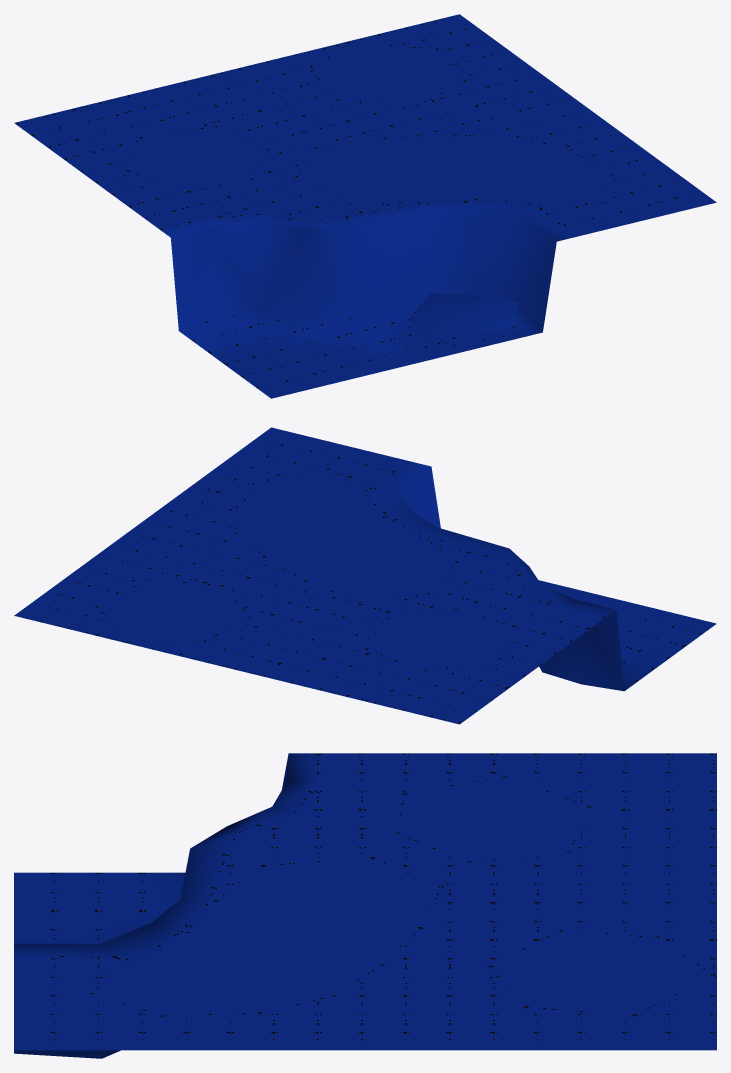
The model's file is GRD_S_C5_3.fbx.
3 views of the same model, one above another, from view 1: azimuth 30°, elevation 25°; view 2: azimuth 150°, elevation 25°; view 3: azimuth 270°, elevation 25° (orthographic). The views are drawn at different scales.
Visible parts, largest first — view 1: material_00022000, material_00042000, material_C0032000, material_C0012000, material_C0052000; view 2: material_00022000, material_C0032000, material_00042000; view 3: material_00022000, material_C0032000, material_00042000.
Part boxes in pixels (x1,y1,x2,y2): material_00022000: [14, 14, 716, 398]; material_00042000: [159, 199, 577, 331]; material_C0032000: [125, 41, 612, 205]; material_C0012000: [408, 293, 518, 338]; material_C0052000: [408, 307, 518, 346]; material_00022000: [14, 427, 716, 724]; material_C0032000: [95, 467, 516, 671]; material_00042000: [367, 461, 624, 691]; material_00022000: [14, 753, 716, 1050]; material_C0032000: [88, 776, 716, 1016]; material_00042000: [14, 753, 321, 1058].
Size of the model in its own units: 12800 by 2400 by 12800.
